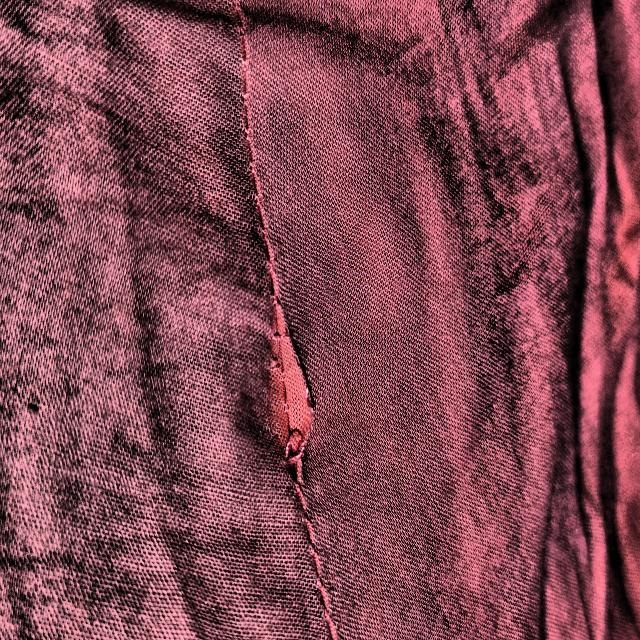seam: (194, 241, 384, 554)
